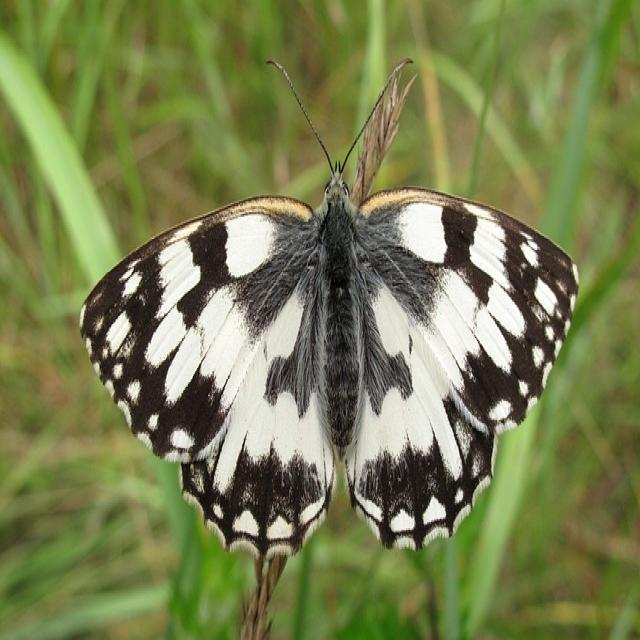butterfly: (79, 167, 580, 640)
